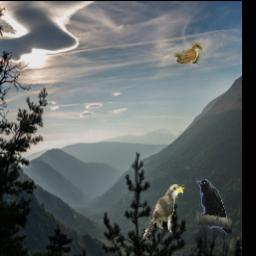Crow: (196, 180, 232, 235)
Cuckoo: (142, 185, 184, 240), (166, 43, 202, 63)
